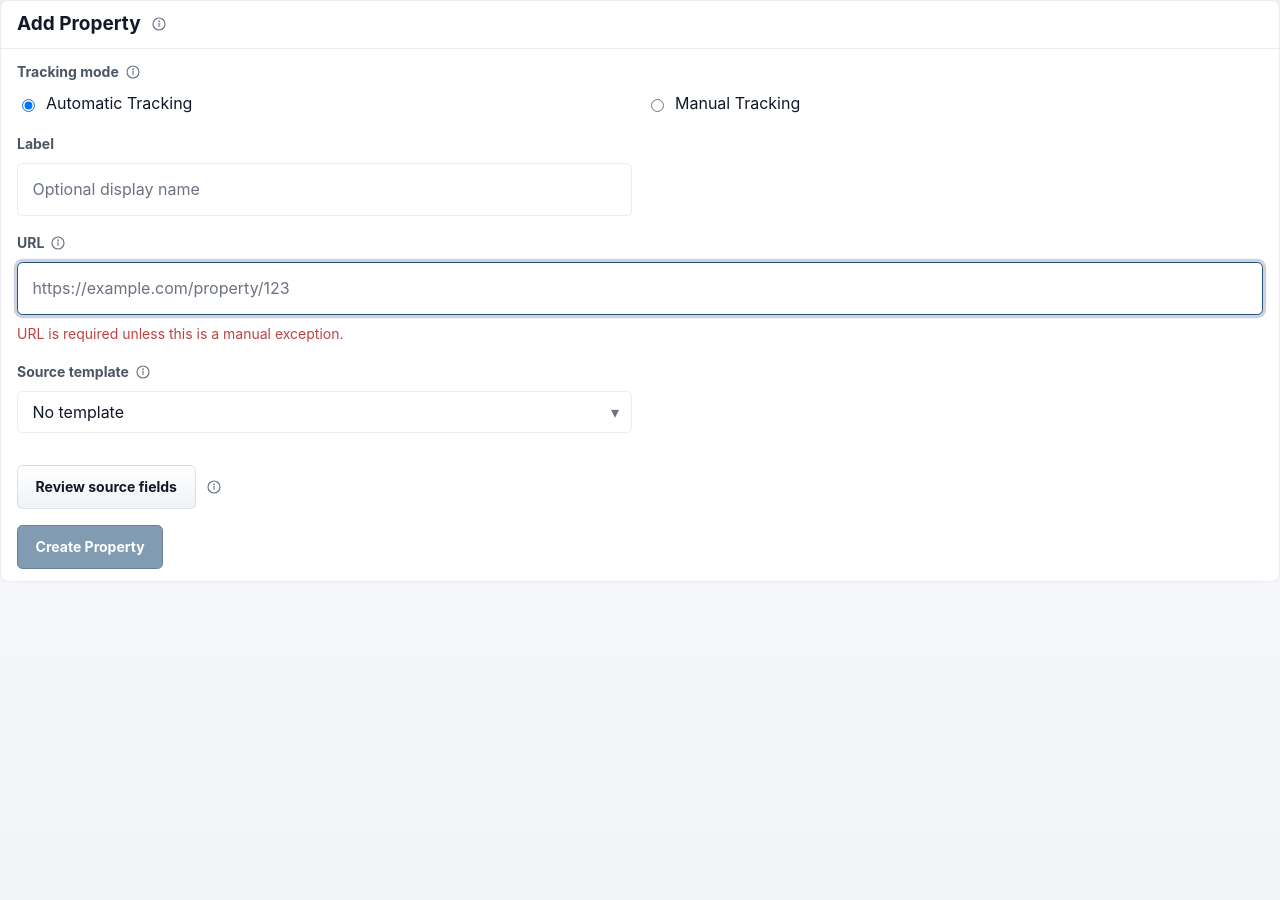
it: PropertyDetailPage › blocks submission when the optional URL is invalid
Expected: the button "Review source fields" is shown, [17, 465, 196, 509]
Type "notaurl" into the field labelled "URL".
click(640, 288); type("notaurl")  # box [17, 262, 1263, 315]
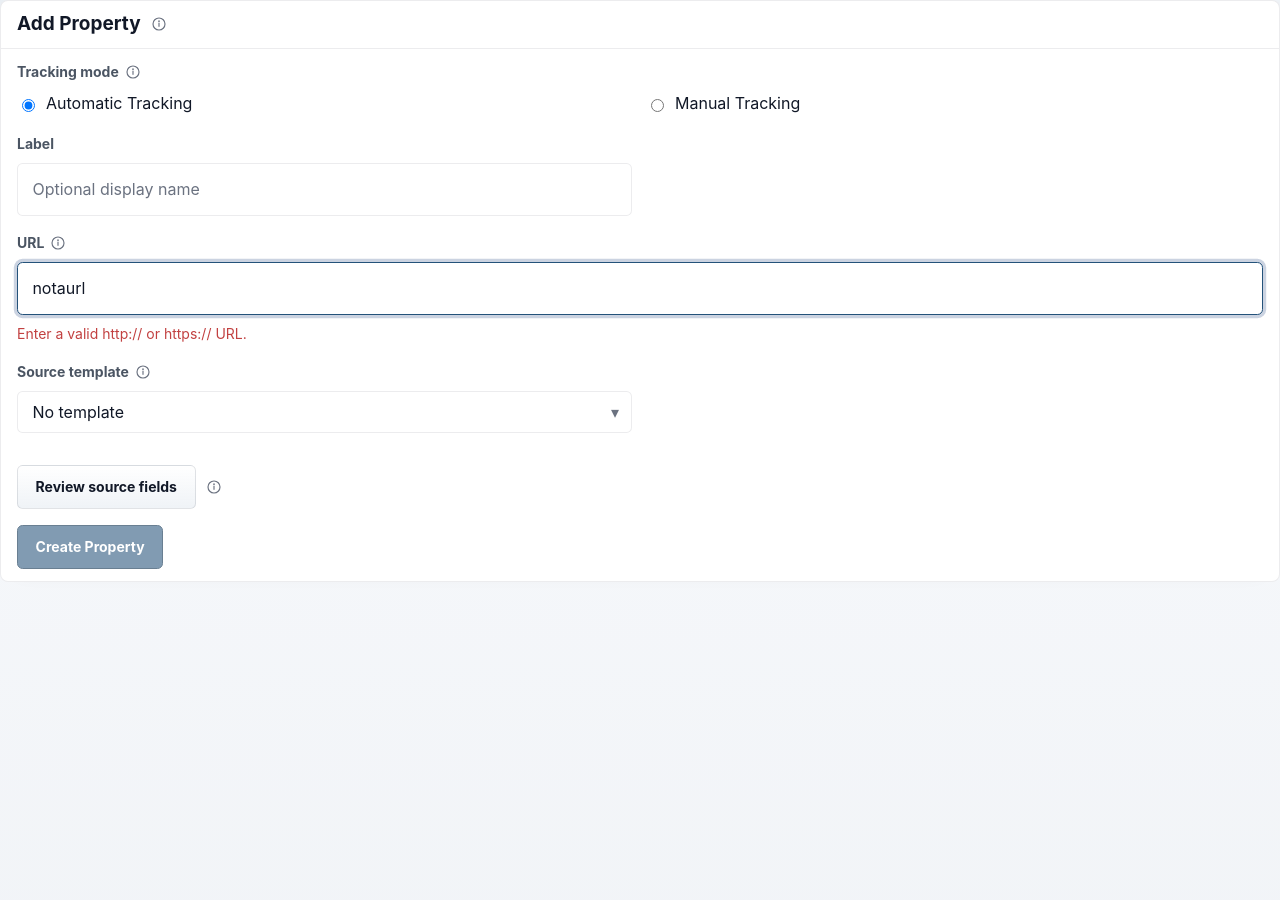
Expected: the button "Create Property" is disabled, [17, 525, 163, 569]
Expected: the text "Enter a valid http:// or https:// URL." is shown, [17, 325, 247, 342]
